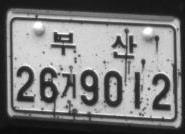0: (103, 69, 123, 108)
1: (129, 70, 146, 109)
2: (15, 64, 35, 103), (151, 72, 171, 111)
6: (38, 66, 59, 103)
9: (79, 68, 99, 106)
거: (60, 72, 77, 99)
부산_D: (50, 31, 138, 59)
